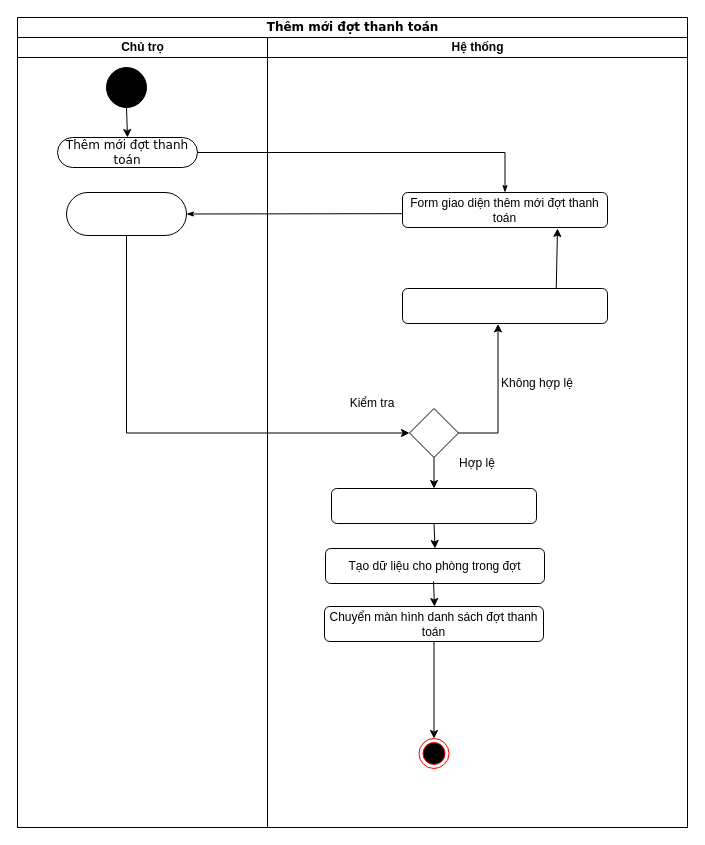
Some shapes in this 705 by 845 pixel diagram are drawn without their labels. The shapes that lost their labels are listed below. From the top down, each one's centre as x and y in pixels, then its label:
the point at 126,214: Thông tin đợt thanh toán
the point at 505,306: Thông báo lỗi
the point at 433,506: Thông báo thành công
